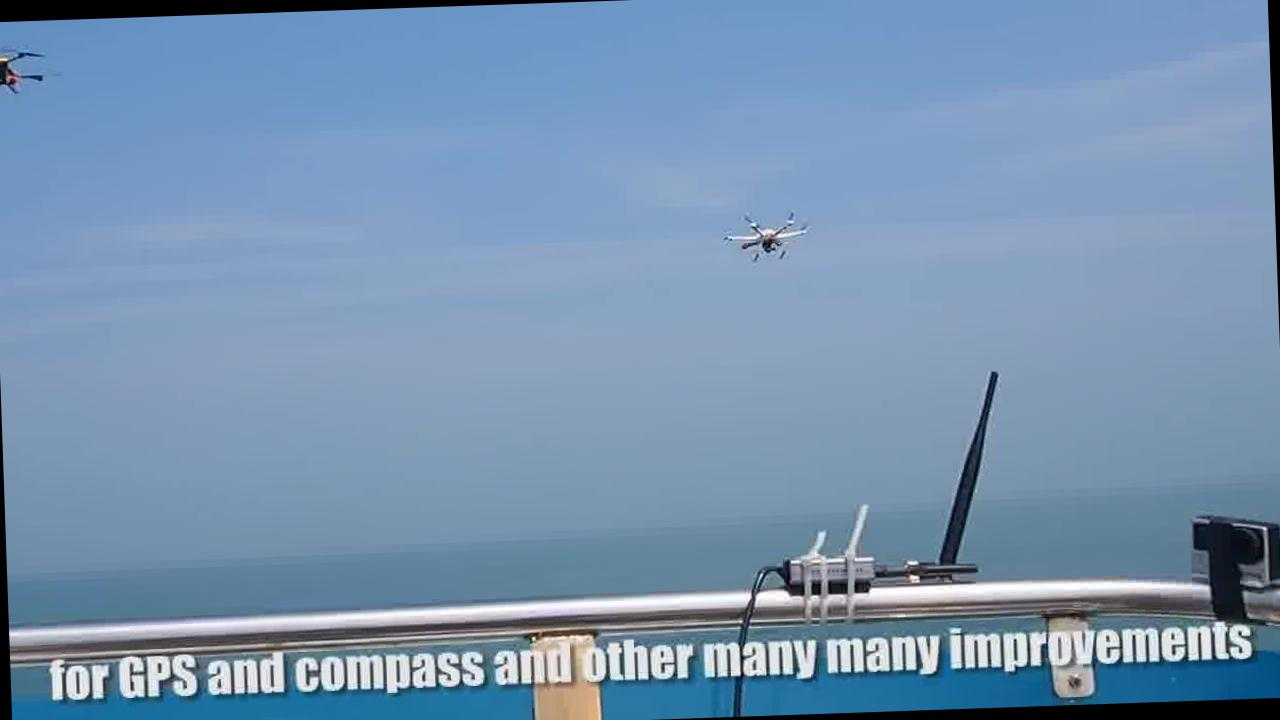drone: (722, 205, 812, 261)
